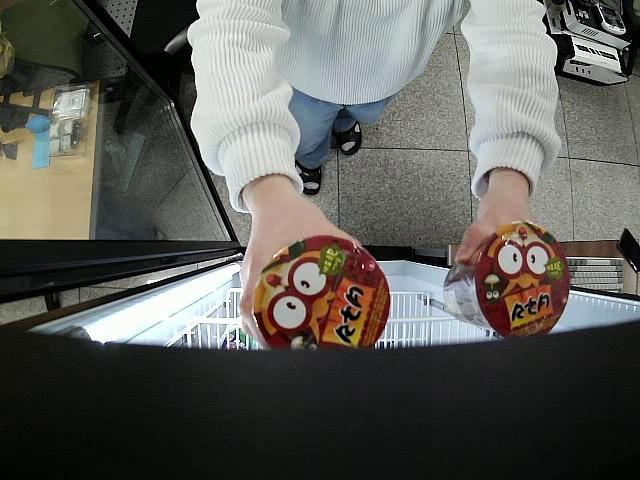00_hand: (239, 207, 364, 351), (455, 205, 545, 269)
06_nuguri_S: (252, 235, 391, 351), (443, 221, 571, 340)
